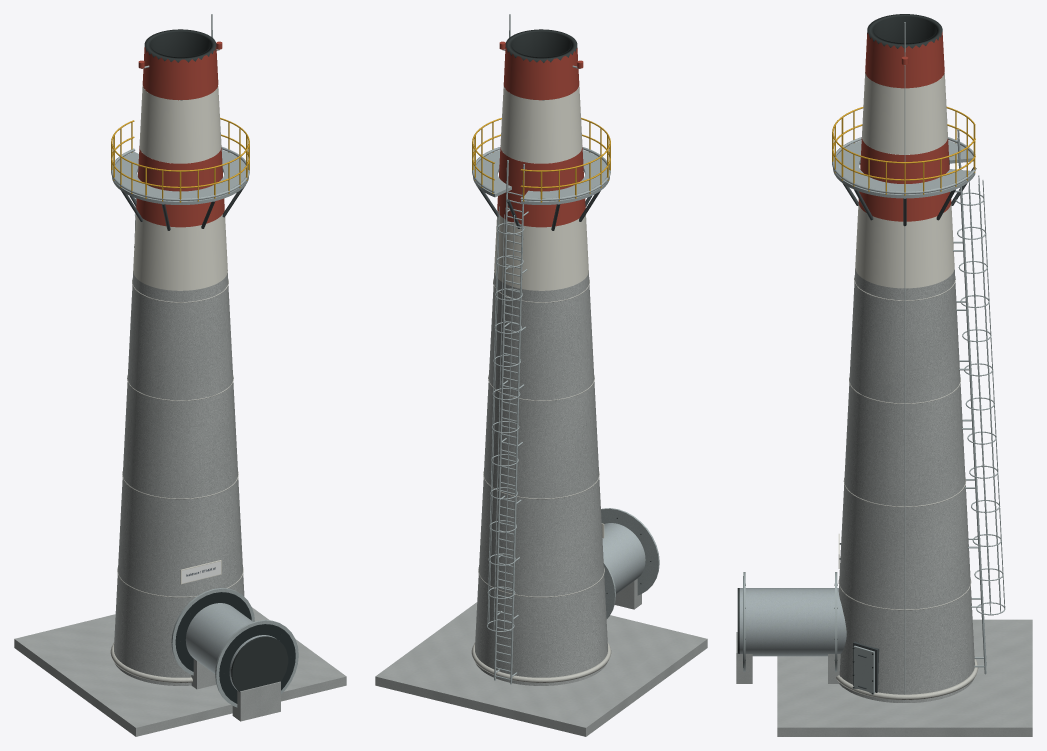
Rendered from industrial-chimney.glb.
3 views of the same model, side by side, from view 1: azimuth 30°, elevation 25°; view 2: azimuth 150°, elevation 25°; view 3: azimuth 270°, elevation 25° (orthographic). The views are drawn at different scales.
Visible parts, largest first — view 1: tapered_chimney_stack_cast-concrete, industrial-chimney_cast-concrete, tapered_chimney_stack_off-white-painted, tapered_chimney_stack_fire-protection-red, industrial-chimney_galvanized-steel, industrial-chimney_rubber-gaskets, industrial-chimney_brushed-metal-panels, industrial-chimney_dark-service-metal, tapered_chimney_stack_dark-service-metal, industrial-chimney_safety-yellow, tapered_chimney_stack_light-precast-concrete, industrial-chimney_powder-coated-frame; view 2: tapered_chimney_stack_cast-concrete, industrial-chimney_cast-concrete, industrial-chimney_galvanized-steel, tapered_chimney_stack_off-white-painted, tapered_chimney_stack_fire-protection-red, industrial-chimney_brushed-metal-panels, tapered_chimney_stack_dark-service-metal, industrial-chimney_safety-yellow, tapered_chimney_stack_light-precast-concrete; view 3: tapered_chimney_stack_cast-concrete, industrial-chimney_cast-concrete, tapered_chimney_stack_off-white-painted, industrial-chimney_galvanized-steel, tapered_chimney_stack_fire-protection-red, industrial-chimney_brushed-metal-panels, tapered_chimney_stack_dark-service-metal, industrial-chimney_safety-yellow, tapered_chimney_stack_light-precast-concrete, industrial-chimney_powder-coated-frame.
Part boxes in pixels (x1,y1,x2,y2): tapered_chimney_stack_cast-concrete: (114, 272, 244, 685); industrial-chimney_cast-concrete: (14, 607, 346, 736); tapered_chimney_stack_off-white-painted: (133, 85, 227, 290); tapered_chimney_stack_fire-protection-red: (136, 47, 224, 227); industrial-chimney_galvanized-steel: (111, 14, 298, 707); industrial-chimney_rubber-gaskets: (175, 592, 295, 703); industrial-chimney_brushed-metal-panels: (185, 603, 275, 690); industrial-chimney_dark-service-metal: (180, 598, 291, 695); tapered_chimney_stack_dark-service-metal: (144, 29, 216, 62); industrial-chimney_safety-yellow: (111, 117, 249, 202); tapered_chimney_stack_light-precast-concrete: (110, 278, 243, 682); industrial-chimney_powder-coated-frame: (121, 185, 245, 230); tapered_chimney_stack_cast-concrete: (475, 272, 607, 685); industrial-chimney_cast-concrete: (375, 579, 707, 736); industrial-chimney_galvanized-steel: (472, 14, 659, 684); tapered_chimney_stack_off-white-painted: (494, 86, 588, 290); tapered_chimney_stack_fire-protection-red: (497, 47, 585, 227); industrial-chimney_brushed-metal-panels: (602, 523, 645, 593); tapered_chimney_stack_dark-service-metal: (505, 29, 577, 62); industrial-chimney_safety-yellow: (472, 117, 610, 202); tapered_chimney_stack_light-precast-concrete: (471, 278, 611, 682); tapered_chimney_stack_cast-concrete: (838, 268, 974, 702); industrial-chimney_cast-concrete: (736, 619, 1032, 736); tapered_chimney_stack_off-white-painted: (855, 72, 954, 288); industrial-chimney_galvanized-steel: (743, 22, 1005, 700); tapered_chimney_stack_fire-protection-red: (858, 32, 951, 221); industrial-chimney_brushed-metal-panels: (739, 588, 846, 656); tapered_chimney_stack_dark-service-metal: (867, 14, 942, 48); industrial-chimney_safety-yellow: (832, 107, 975, 195); tapered_chimney_stack_light-precast-concrete: (836, 277, 978, 699); industrial-chimney_powder-coated-frame: (839, 163, 976, 692).
Bounding box in the file's own units: 7.8 × 22.8 × 9.05.
Materials: 7 (7 with a texture image).
